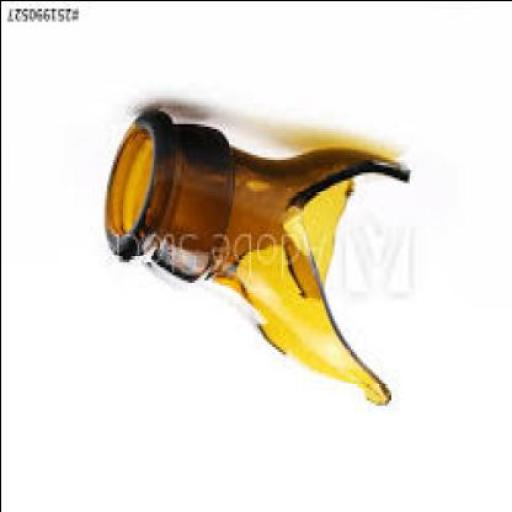glass: (106, 110, 410, 404)
